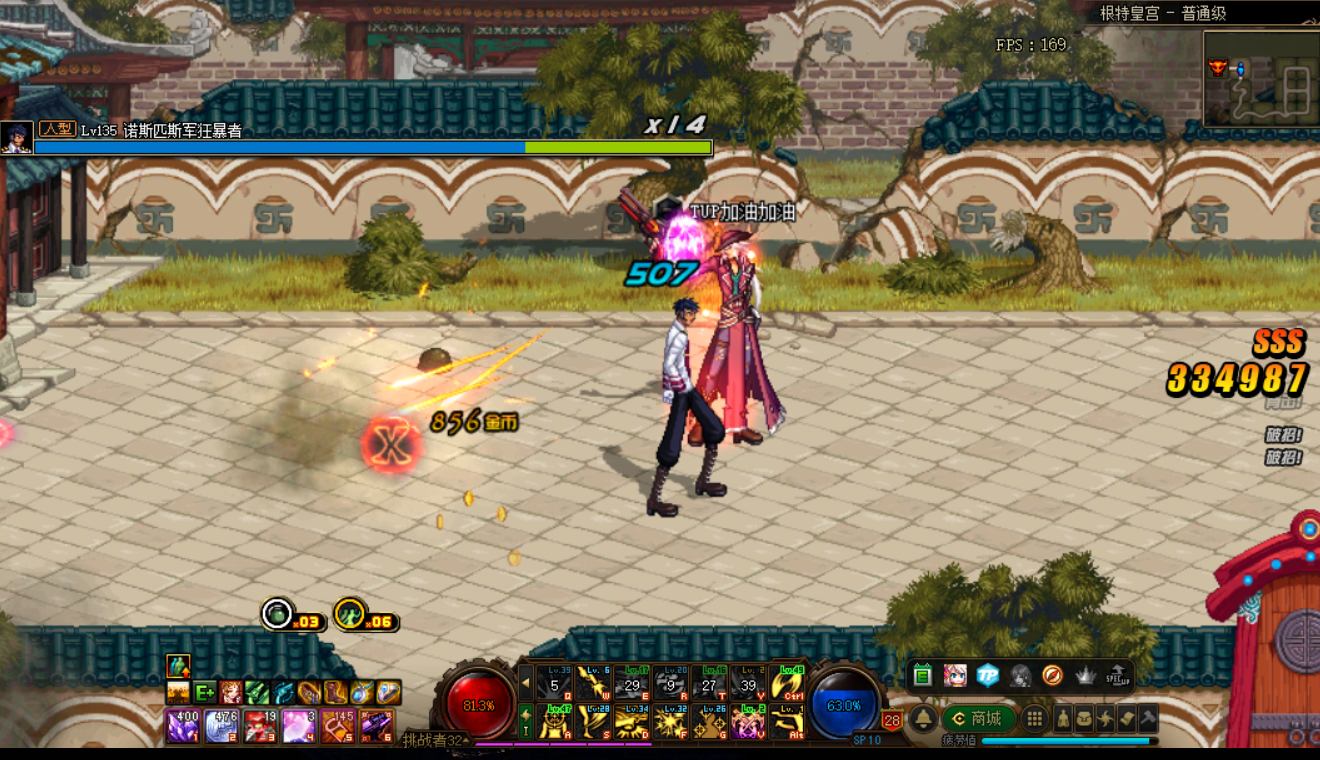monster: (643, 296, 739, 520)
warrior: (700, 215, 783, 457)
